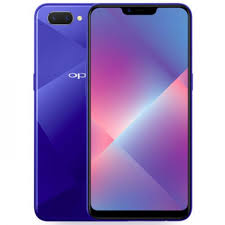oppo: (84, 2, 196, 224), (28, 1, 90, 222)
